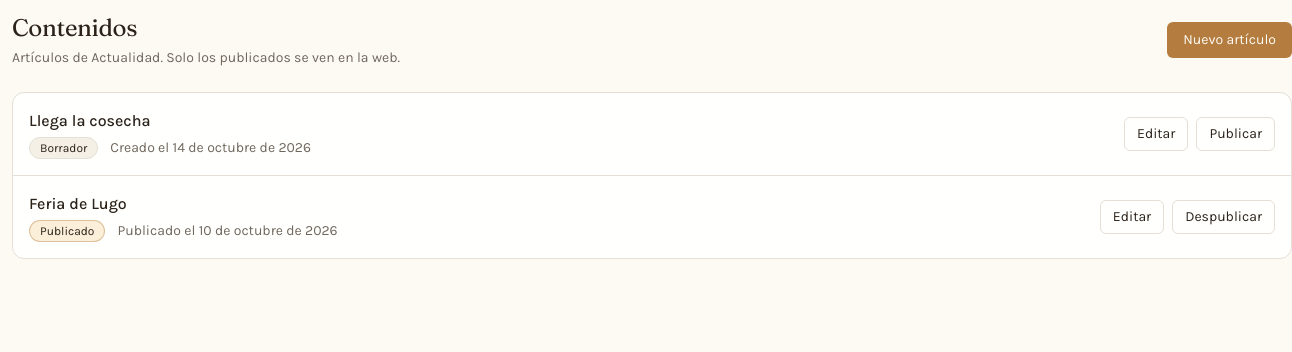
Scenario: AdminArticlesView › despublica un artículo publicado
Click the button "Despublicar". click: point(1224, 217)
box: [1172,200,1275,234]
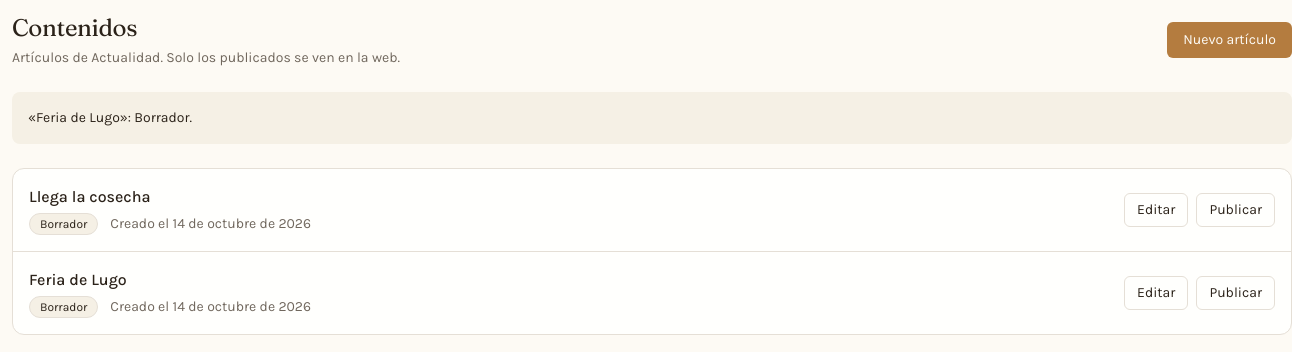
Now the message "«Feria de Lugo»: Borrador." is shown, box [12,92,1291,144]
